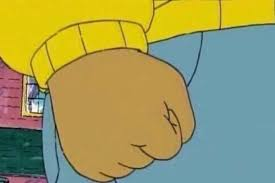fist: (62, 67, 185, 172)
